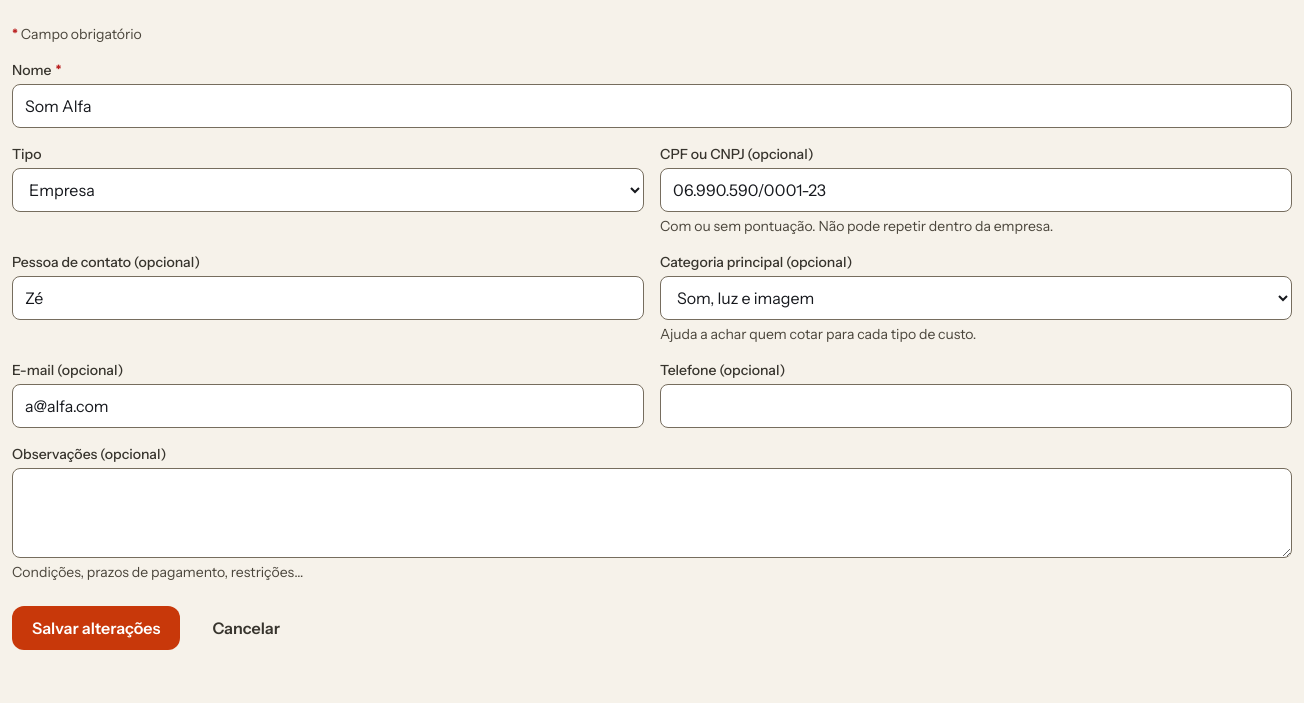
Test: SupplierForm — editar › se outra pessoa mexeu antes (409), oferece carregar os dados atuais em vez de sobrescrever
This screenshot has width=1304, height=703.
Click the button "Salvar alterações". click: [96, 628]
box: [12, 606, 180, 650]
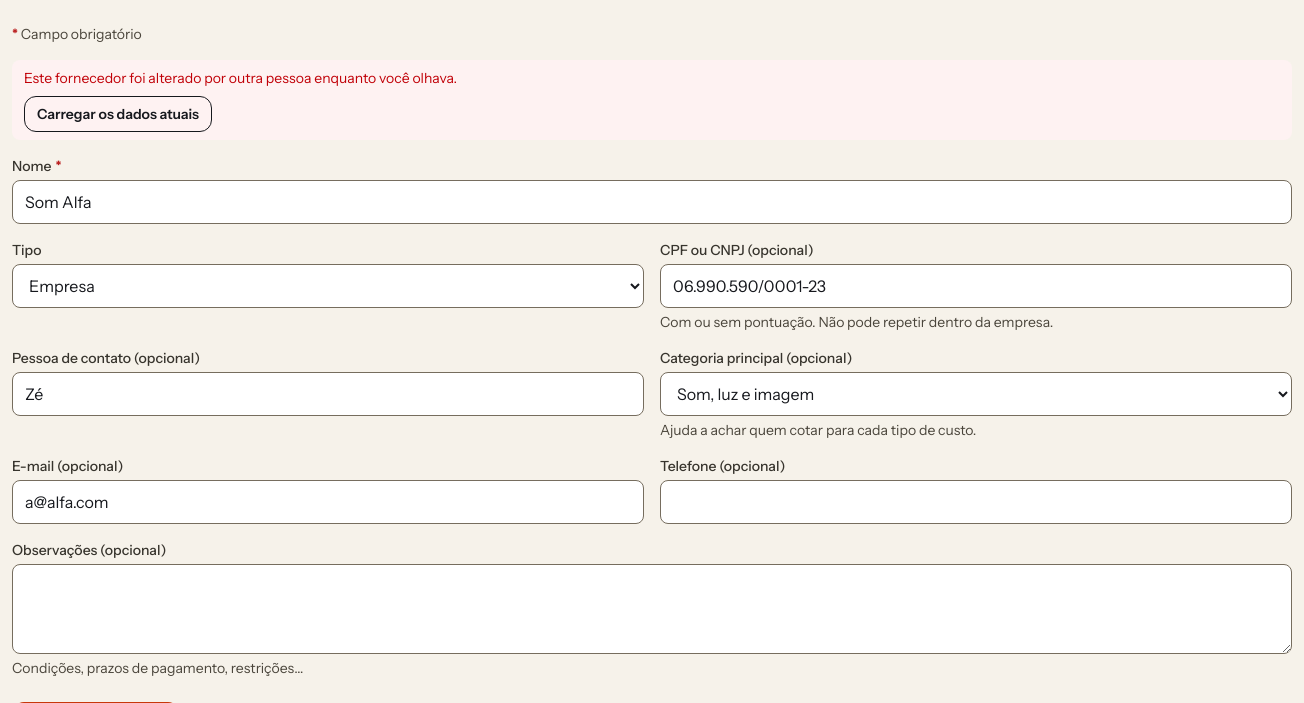
Expected: the text "alterado por outra pessoa" is shown, [24, 69, 457, 87]
Expected: the button "Carregar os dados atuais" is shown, [24, 96, 212, 132]
